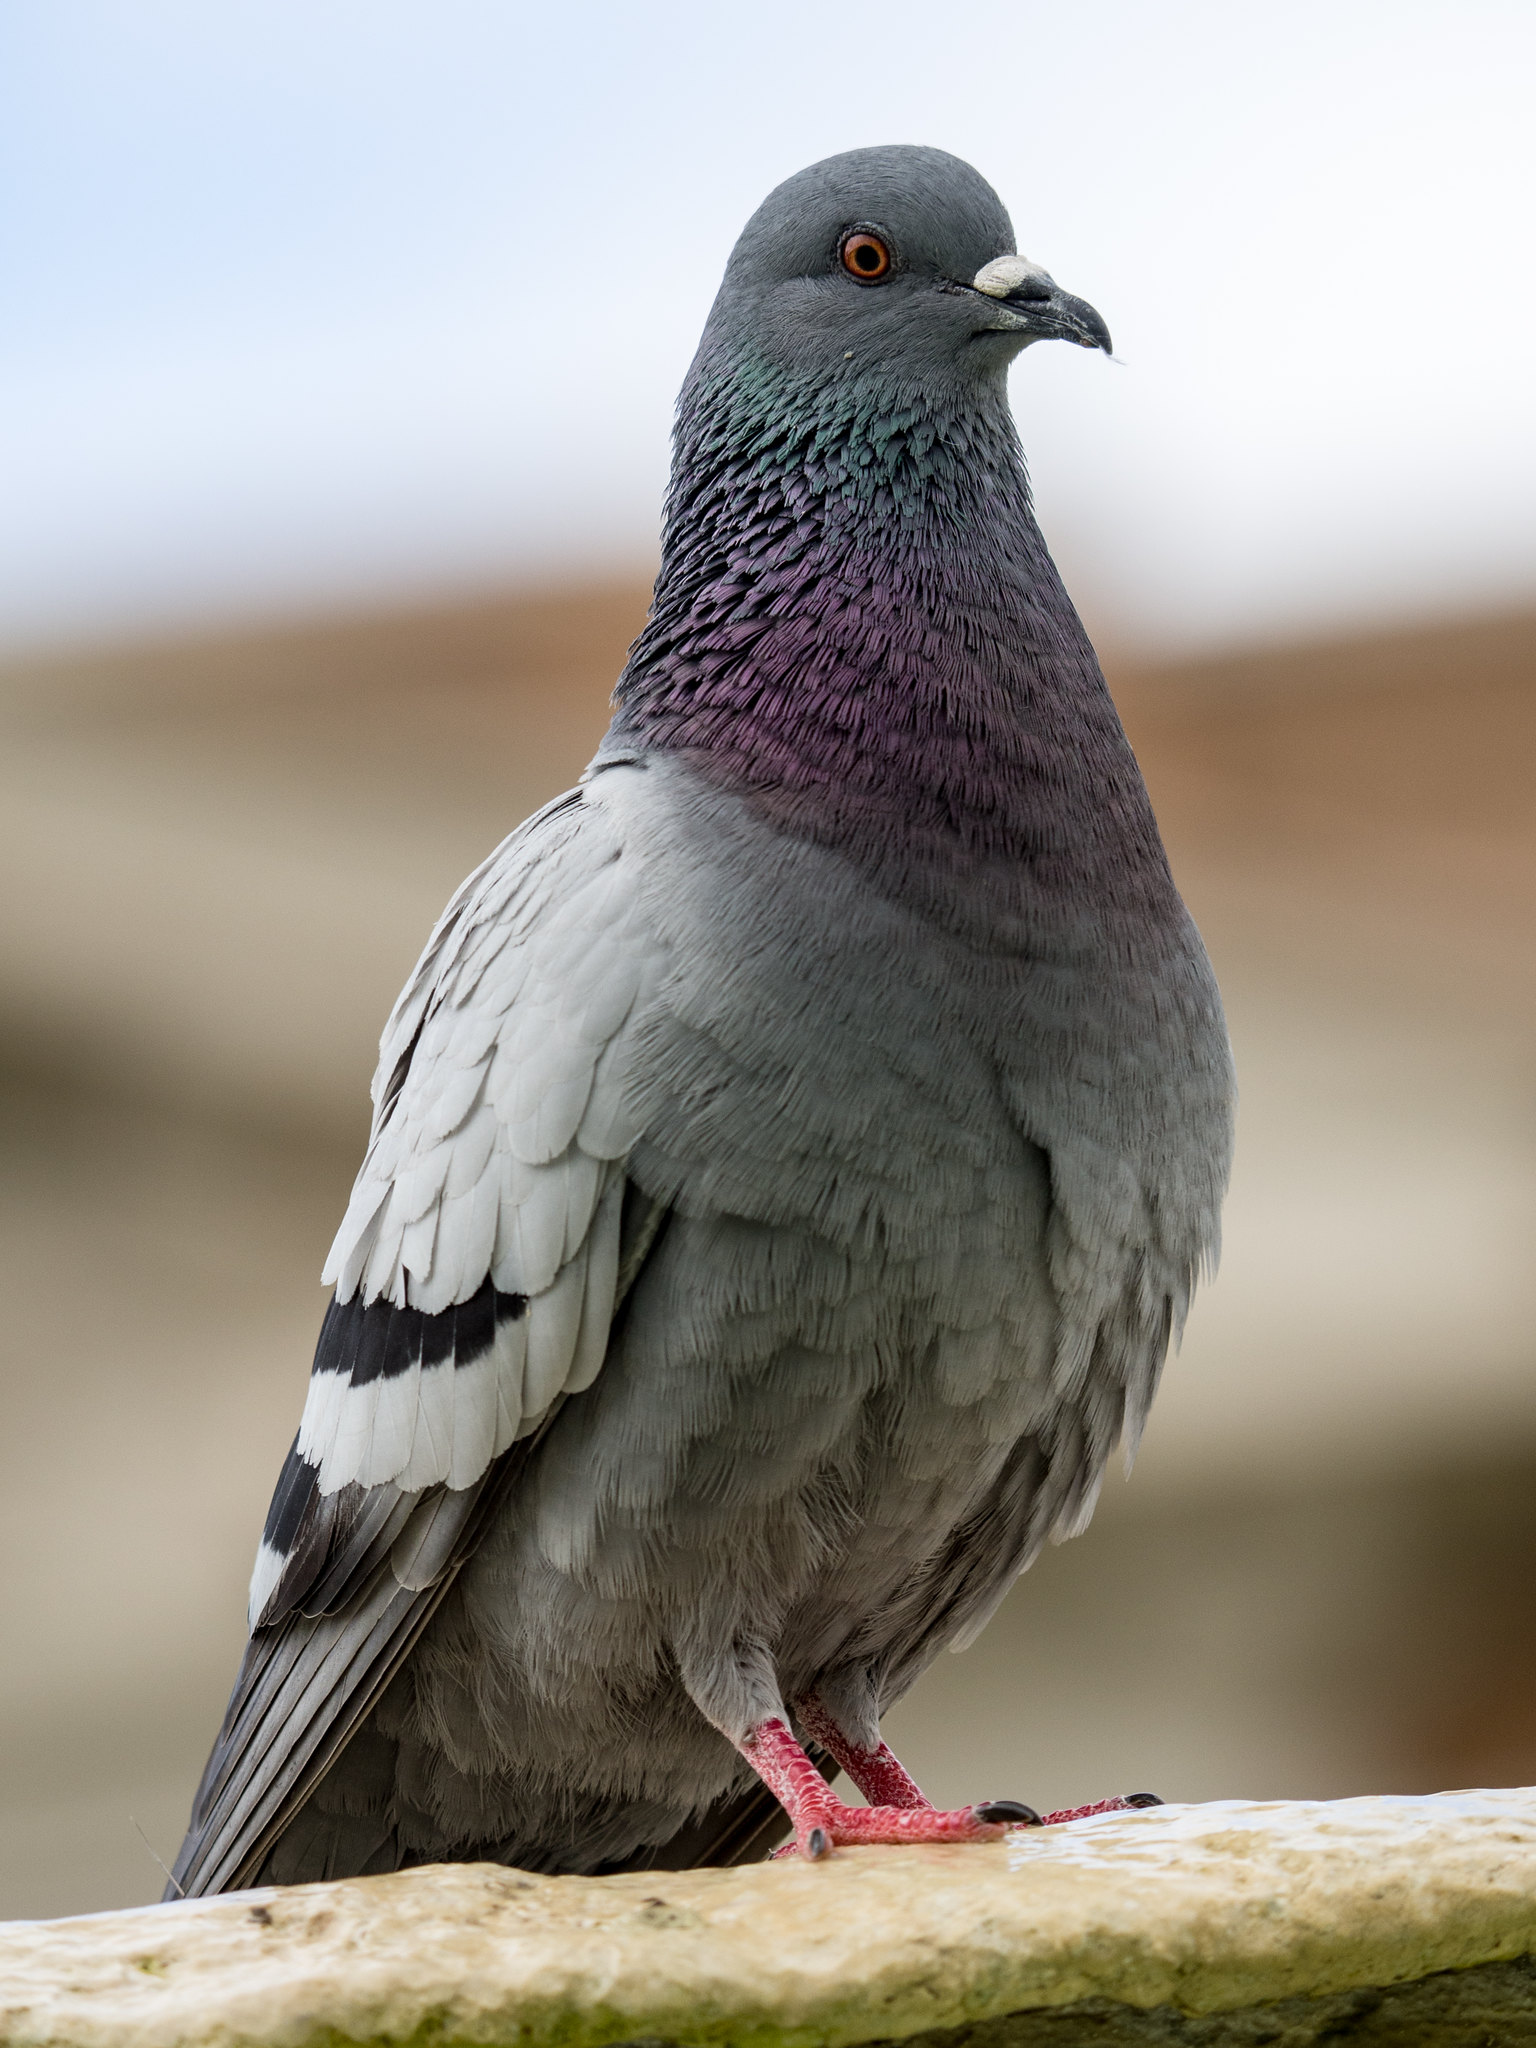pigeon: (144, 121, 1307, 1892)
